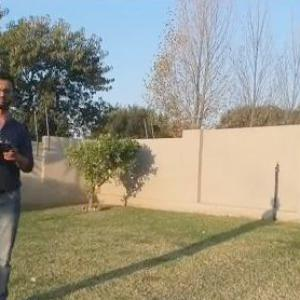follow: (0, 61, 38, 299)
